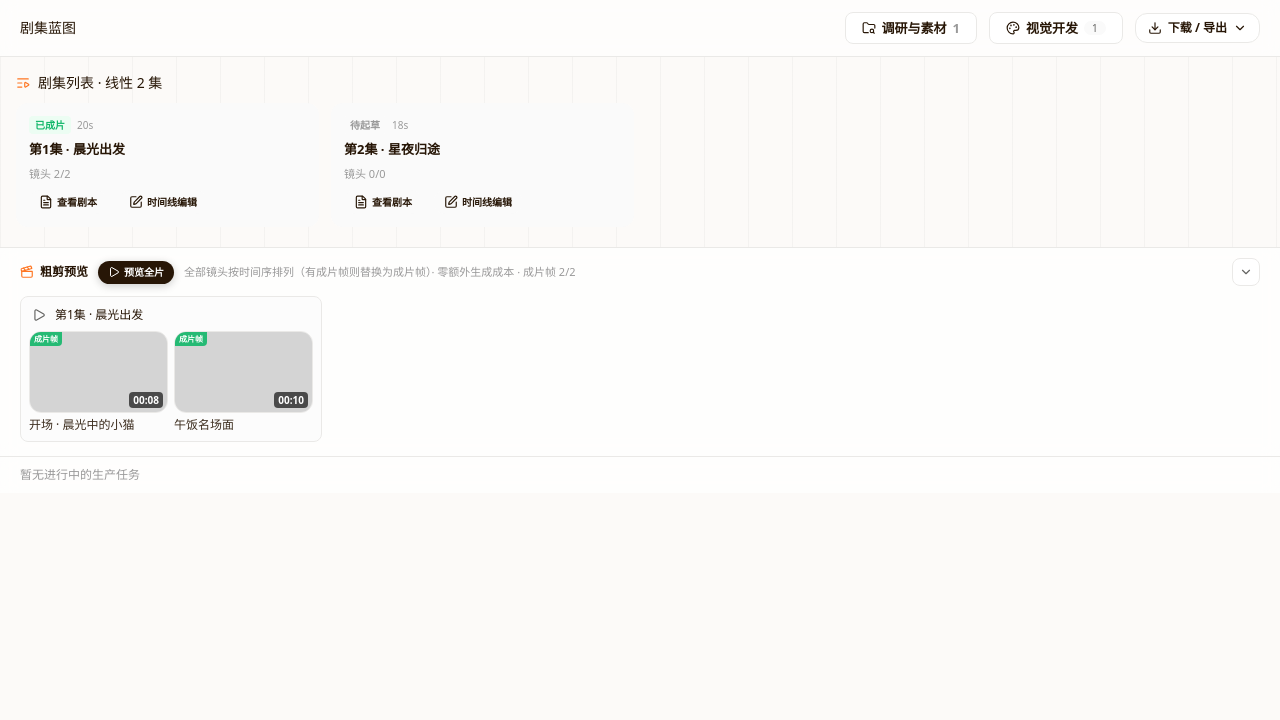
Test: BlueprintPage narrative shapes › renders the linear episode card grid for multi-timeline projects without edges
Expected: the element that starts with "剧集列表 · 线性 2 集" is shown, [16,73,634,227]
Expected: the text "第1集 · 晨光出发" below "剧集列表 · 线性 2 集" is shown, [29,140,125,158]
Note: Selecting an episode opens the script panel and references the node.
Click the button "待起草 18s 第2集 · 星夜归途 镜头 0/0 查看剧本 时间线编辑". click: coordinates (365, 125)
box: [331,103,634,227]
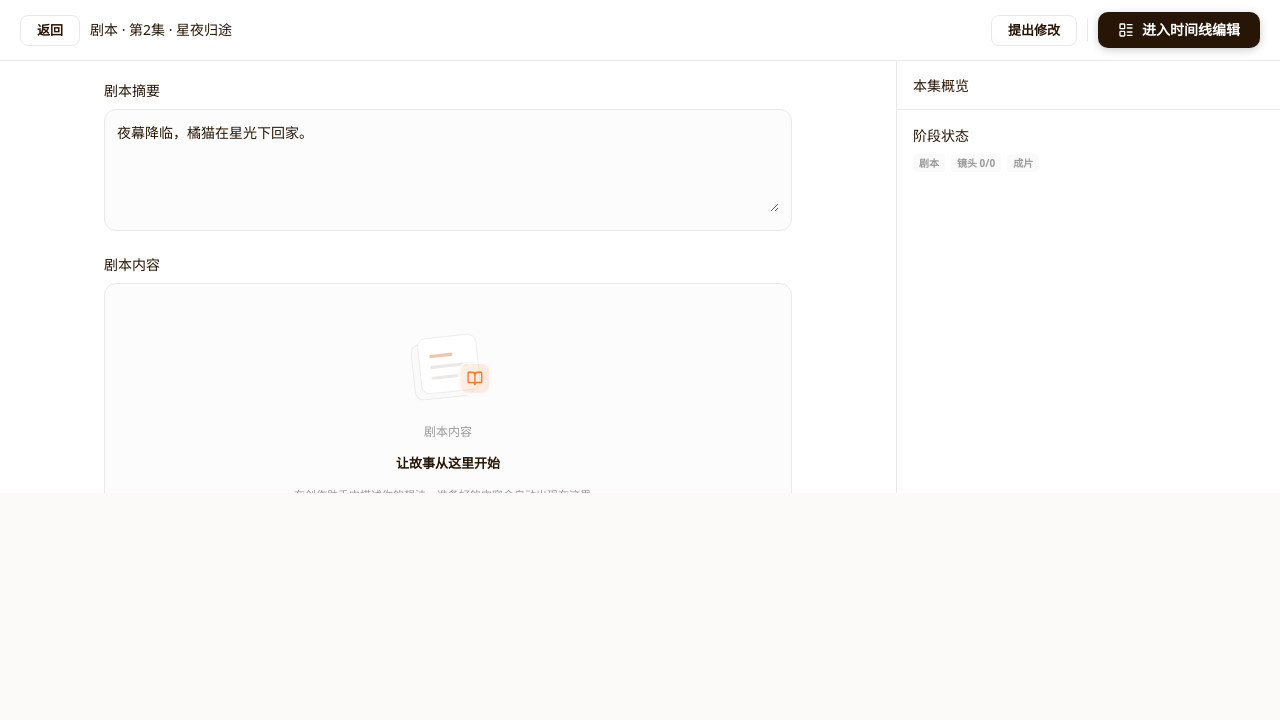
Expected: the element that starts with "剧本 · 第2集 · 星夜归途" is shown
Expected: the text box is shown, [117,122,779,212]
